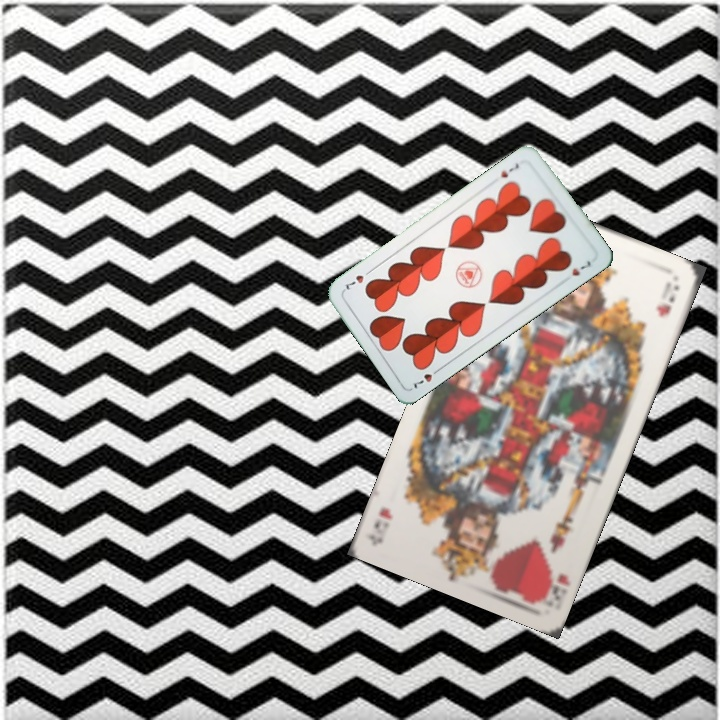H7: (409, 363, 444, 391), (497, 159, 522, 181)
HK: (536, 565, 572, 604)
